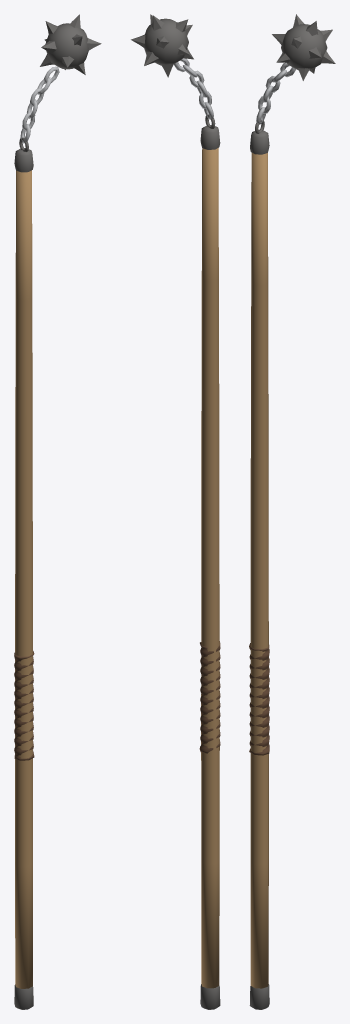
Rendered from flailpole.glb.
3 renders of one model, left to right at view 1: azimuth 30°, elevation 25°; view 2: azimuth 210°, elevation 25°; view 3: azimuth 330°, elevation 25°, orthographic. The views are drawn at different scales.
Parts seen in each view (by area): view 1: flailpole; view 2: flailpole; view 3: flailpole.
Boxes of the visible parts, x1,y1,x2,y2 form: flailpole: (14, 14, 101, 1009); flailpole: (131, 14, 220, 1009); flailpole: (249, 14, 335, 1009).
Bounding box in the file's own units: 0.4008 × 4.73 × 0.2541.
